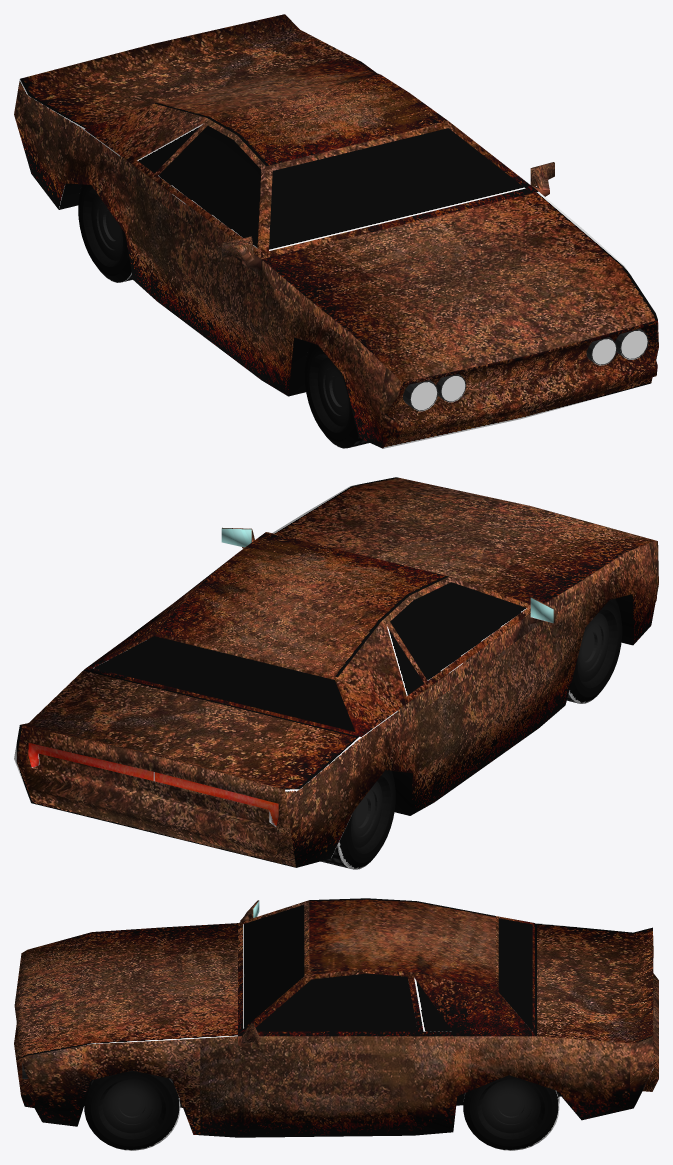
The model's file is muscle_car_lowpoly_lightsout_GLB.glb.
3 views of the same model, one above another, from view 1: azimuth 30°, elevation 25°; view 2: azimuth 150°, elevation 25°; view 3: azimuth 270°, elevation 25° (orthographic). The views are drawn at different scales.
Parts seen in each view (by area): view 1: Body, Tire, LightBodies, LightLAMPS; view 2: Body, Tire; view 3: Body, Tire.
Part boxes in pixels (<box>): Body: <box>14,14,658,448</box>; Tire: <box>78,184,369,448</box>; LightBodies: <box>410,330,647,410</box>; LightLAMPS: <box>403,328,648,411</box>; Body: <box>14,477,658,867</box>; Tire: <box>320,598,622,869</box>; Body: <box>14,898,658,1137</box>; Tire: <box>84,1070,559,1150</box>.
Size of the model in its own units: 1.99 by 1.13 by 4.
1 material, 1 textured.
